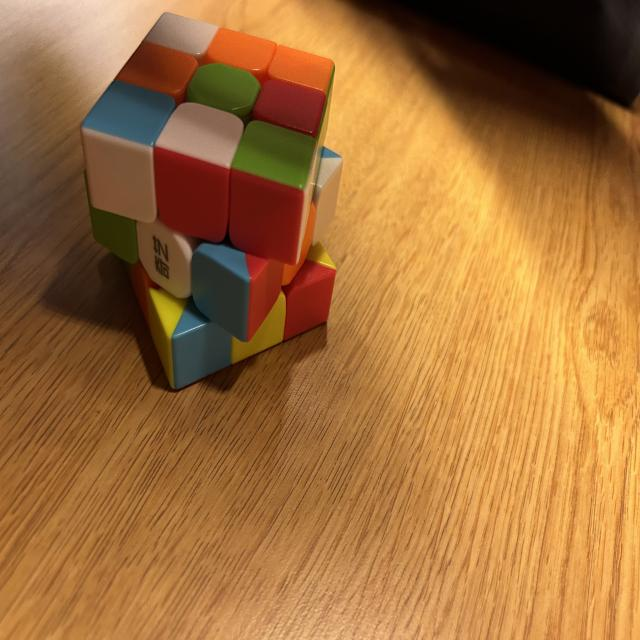Rubiks Cube: (82, 11, 344, 392)
